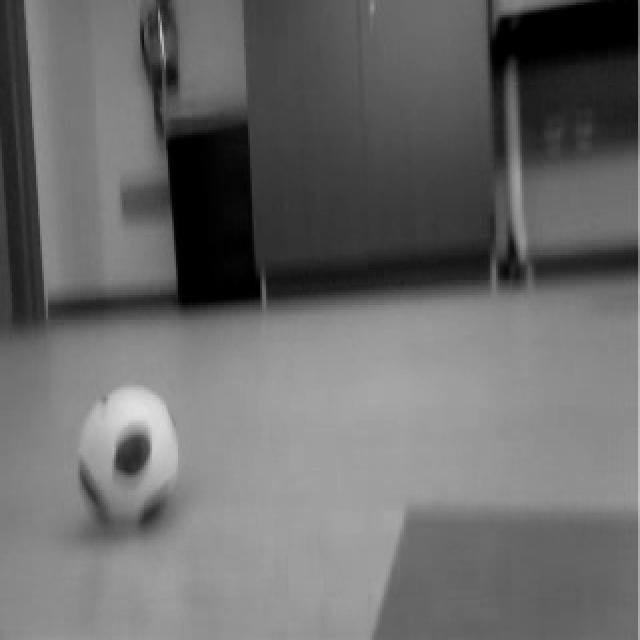ping-pong-ball: (72, 382, 185, 530)
